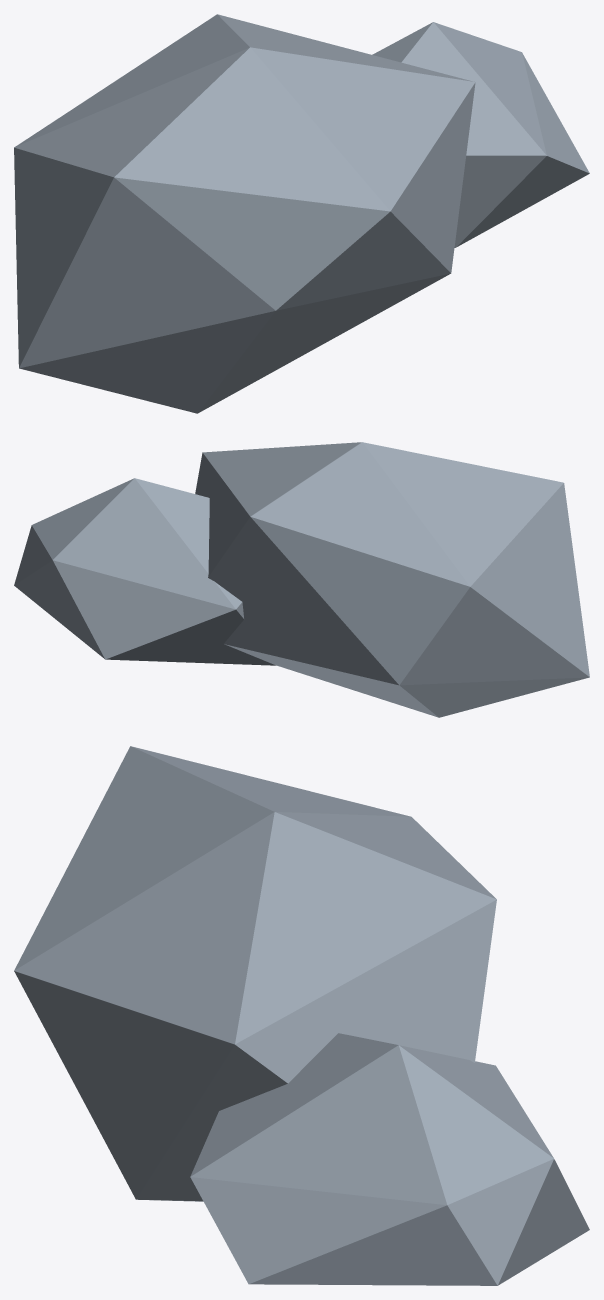
The picture shows the model from 3 angles, top to bottom: view 1: azimuth 30°, elevation 25°; view 2: azimuth 150°, elevation 25°; view 3: azimuth 270°, elevation 25°; orthographic projection. The views are drawn at different scales.
Parts seen in each view (by area): view 1: da; view 2: da; view 3: da.
Part boxes in pixels (<box>): da: <box>14,14,589,413</box>; da: <box>14,442,589,717</box>; da: <box>14,746,589,1285</box>.
Size of the model in its own units: 1.79 by 0.9586 by 1.14.
